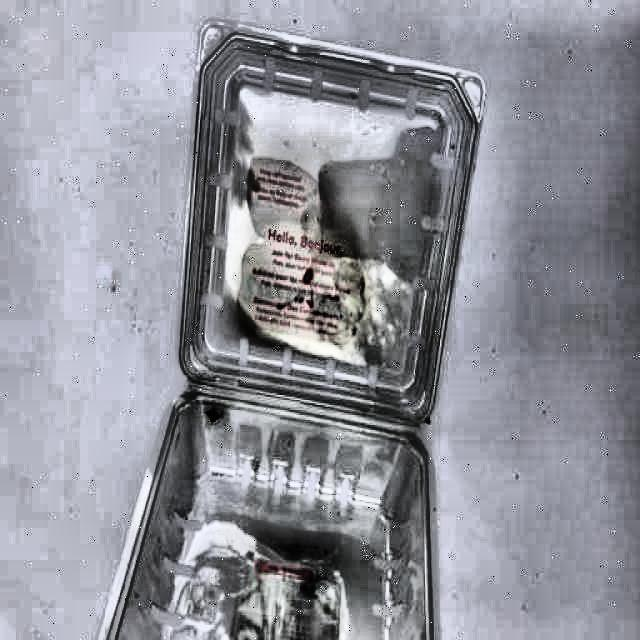plastic: (98, 22, 488, 640)
